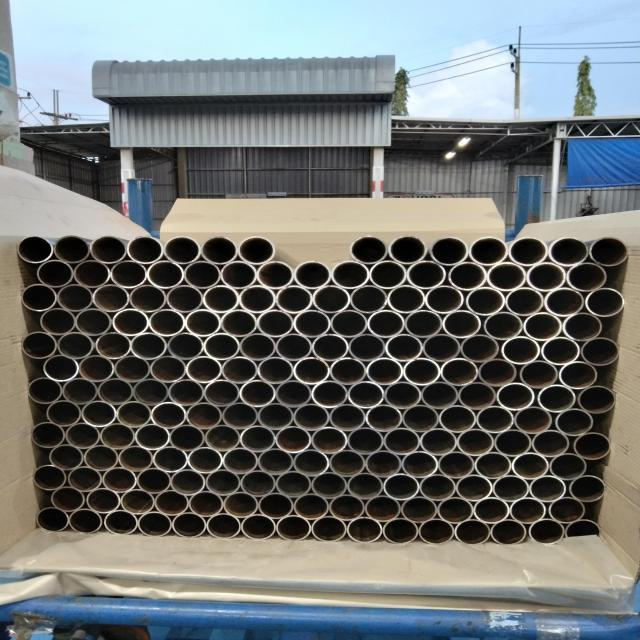pipe: (545, 287, 585, 318), (567, 262, 607, 293), (526, 261, 566, 292), (428, 236, 469, 266), (483, 311, 524, 341), (548, 236, 589, 266), (508, 236, 549, 266), (459, 334, 500, 364), (388, 235, 428, 265), (523, 312, 563, 342), (562, 312, 602, 342), (425, 285, 465, 315), (519, 360, 559, 390), (465, 286, 505, 316), (487, 262, 527, 292), (558, 360, 598, 390), (505, 287, 545, 317), (468, 236, 508, 266), (589, 236, 629, 266), (407, 260, 447, 290), (447, 261, 487, 291), (477, 358, 518, 387), (350, 284, 388, 315), (581, 337, 620, 367), (387, 284, 426, 314), (501, 336, 541, 365), (442, 310, 482, 339), (541, 337, 581, 366), (554, 408, 594, 437), (585, 288, 625, 317), (457, 427, 495, 457), (385, 333, 423, 363), (423, 333, 461, 363), (331, 260, 369, 290), (348, 333, 386, 363), (90, 234, 128, 264), (200, 235, 238, 265), (420, 427, 458, 457), (312, 284, 350, 314), (275, 284, 313, 314), (369, 260, 407, 290), (75, 307, 113, 337), (53, 234, 91, 264), (36, 259, 74, 289), (92, 283, 130, 313), (350, 235, 388, 265), (129, 283, 167, 313), (458, 381, 497, 410), (493, 428, 532, 457), (577, 385, 616, 414), (496, 383, 536, 411), (537, 385, 577, 413), (548, 453, 588, 481), (514, 406, 554, 434), (164, 235, 201, 265), (238, 235, 275, 265), (184, 260, 221, 290), (147, 259, 184, 289), (110, 259, 147, 289), (239, 284, 276, 314), (73, 259, 110, 289), (17, 234, 54, 264), (441, 358, 479, 387), (294, 261, 332, 290), (367, 309, 405, 338), (384, 381, 422, 410), (405, 309, 443, 338), (421, 381, 459, 410), (293, 309, 331, 338), (365, 403, 403, 432), (330, 309, 368, 338), (328, 403, 366, 432), (148, 308, 186, 337), (112, 308, 150, 337), (439, 405, 477, 434), (402, 404, 440, 433), (383, 427, 421, 456), (166, 284, 204, 313), (476, 406, 515, 434), (511, 452, 550, 480), (568, 475, 607, 503), (531, 430, 570, 458), (529, 475, 568, 503), (127, 235, 163, 265), (572, 432, 612, 459), (221, 260, 257, 290), (275, 333, 312, 362), (221, 356, 258, 385), (257, 261, 294, 290), (275, 379, 312, 408), (312, 333, 349, 362), (168, 378, 205, 407), (114, 355, 151, 384), (185, 308, 222, 337), (257, 309, 294, 338), (221, 309, 258, 338), (57, 284, 94, 313), (39, 307, 76, 336), (132, 378, 169, 407), (311, 380, 348, 409), (150, 355, 187, 384), (203, 285, 240, 314), (311, 471, 348, 500), (204, 379, 241, 408), (21, 331, 58, 360), (293, 357, 331, 385), (366, 358, 404, 386), (329, 357, 367, 385), (403, 358, 441, 386), (347, 381, 385, 409), (130, 332, 168, 360), (167, 332, 205, 360), (474, 452, 512, 480), (437, 451, 475, 479), (292, 403, 330, 431), (57, 332, 95, 360), (492, 474, 530, 502), (455, 474, 493, 502), (400, 496, 438, 524), (419, 474, 457, 502), (364, 495, 402, 523), (509, 497, 547, 525), (436, 496, 474, 524), (21, 283, 57, 312), (257, 357, 294, 385), (239, 379, 276, 407), (239, 333, 276, 361), (95, 332, 132, 360), (78, 355, 115, 383), (186, 356, 223, 384), (257, 402, 294, 430), (401, 451, 438, 479), (222, 402, 259, 430), (329, 449, 366, 477), (275, 425, 312, 453), (257, 448, 294, 476), (293, 449, 330, 477), (473, 496, 510, 524), (275, 470, 312, 498), (311, 426, 348, 454), (97, 378, 134, 406), (365, 450, 402, 478), (347, 427, 384, 455), (62, 377, 99, 405), (42, 354, 79, 382), (347, 472, 384, 500), (239, 425, 276, 453), (383, 473, 420, 501), (240, 470, 277, 498), (490, 519, 528, 546), (548, 497, 586, 524), (46, 399, 82, 427), (169, 424, 205, 452), (205, 424, 241, 452), (116, 401, 152, 429), (186, 402, 222, 430), (99, 422, 135, 450), (151, 401, 187, 429), (65, 422, 101, 450), (187, 446, 223, 474), (205, 469, 241, 497), (222, 447, 258, 475), (203, 333, 239, 361), (418, 518, 455, 545), (454, 519, 491, 546), (382, 517, 419, 544), (293, 493, 330, 520), (346, 516, 383, 543), (329, 494, 366, 521), (135, 423, 170, 451), (28, 377, 63, 405), (311, 515, 347, 542), (258, 492, 294, 519), (49, 444, 85, 471), (152, 446, 188, 473), (83, 445, 119, 472), (67, 466, 103, 493), (81, 400, 117, 427), (85, 487, 121, 514), (118, 445, 154, 472), (528, 519, 565, 545), (154, 490, 189, 517), (171, 469, 206, 496), (136, 467, 171, 494), (51, 486, 86, 513), (189, 491, 224, 518), (120, 488, 155, 515), (31, 422, 66, 449), (102, 467, 137, 494), (223, 492, 258, 519), (276, 515, 312, 541), (171, 512, 207, 538), (137, 511, 172, 537), (241, 514, 276, 540), (206, 513, 242, 538), (104, 509, 138, 535), (69, 508, 103, 534), (33, 466, 68, 491), (37, 507, 69, 533), (564, 520, 601, 541)
